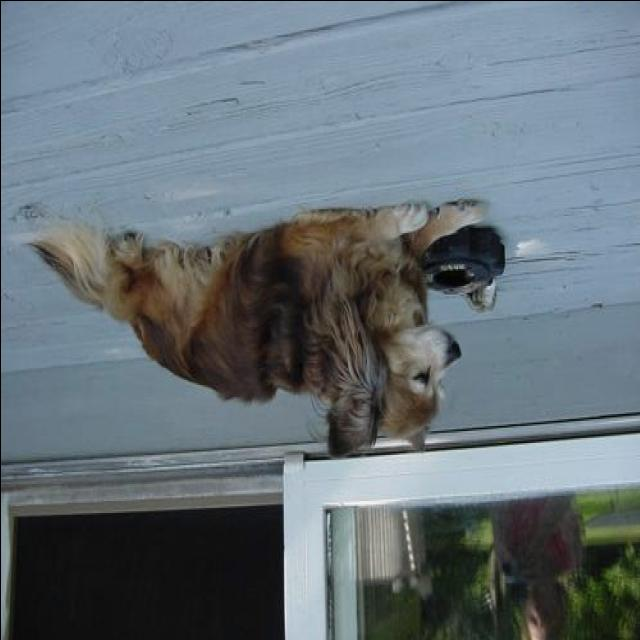papillon: (26, 164, 508, 476)
